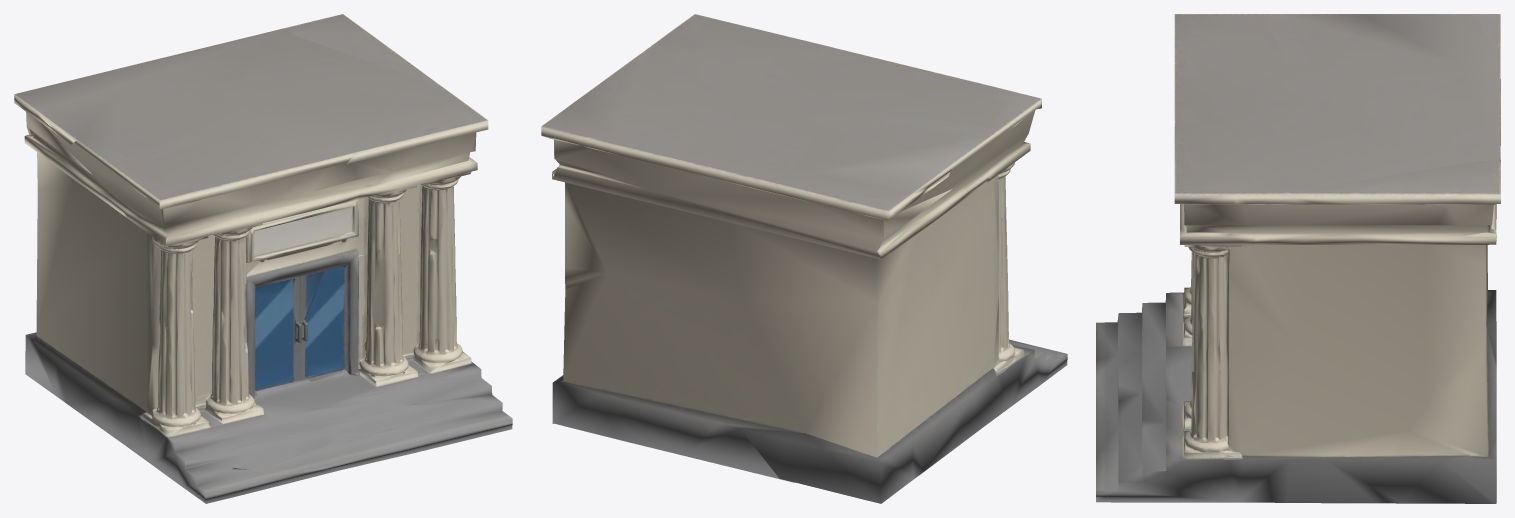
Rendered from bank.glb.
3 renders of one model, left to right at view 1: azimuth 30°, elevation 25°; view 2: azimuth 150°, elevation 25°; view 3: azimuth 270°, elevation 25°, orthographic. The views are drawn at different scales.
Bounding box in the file's own units: 1.9 × 1.55 × 1.81.
1 material, 1 textured.
